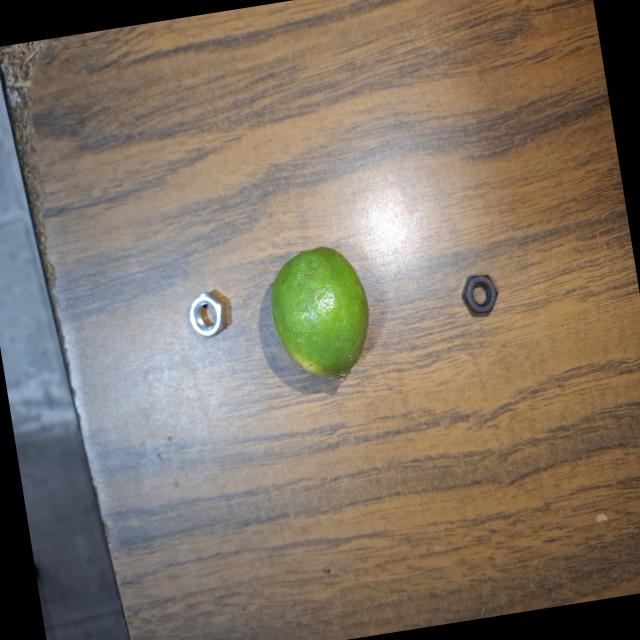limon: (257, 230, 390, 401)
milimetrico: (448, 266, 508, 326)
tuerca: (175, 280, 239, 350)
